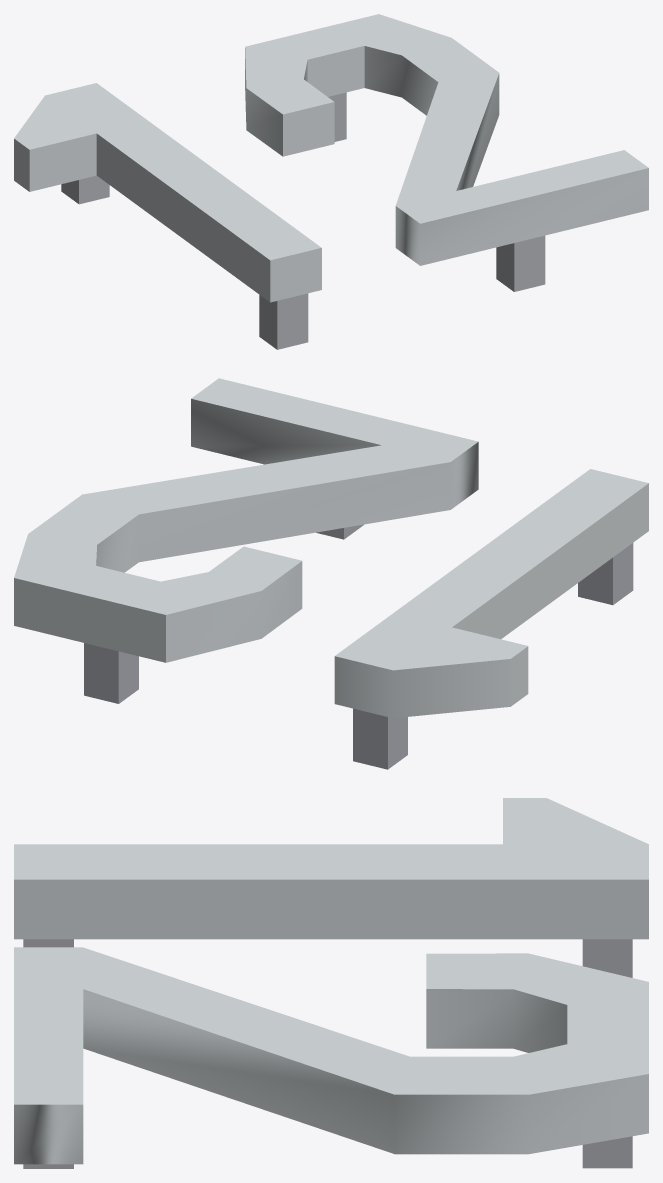
File: 0464_Flower_Clock_12.glb
The picture shows the model from 3 angles, top to bottom: view 1: azimuth 30°, elevation 25°; view 2: azimuth 150°, elevation 25°; view 3: azimuth 270°, elevation 25°; orthographic projection. The views are drawn at different scales.
Parts seen in each view (by area): view 1: part_0; view 2: part_0; view 3: part_0.
Boxes of the visible parts, x1,y1,x2,y2 form: part_0: (14,14,648,349); part_0: (14,378,648,769); part_0: (14,798,648,1168).
Bounding box in the file's own units: 0.885 × 0.1792 × 0.7743.
Materials: 1 (1 with a texture image).
